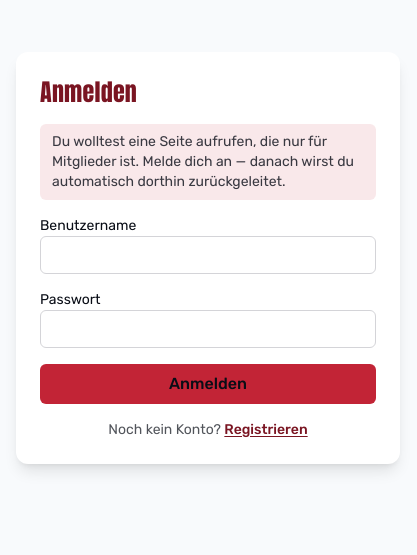
LoginForm — callbackUrl return (issue #20) › stays on the form when sign-in fails (no redirect)
The width and height of the screenshot is (417, 555).
In the field labelled "Benutzername": (208, 255) top-left (40, 236), bottom-right (376, 274), type "tester"
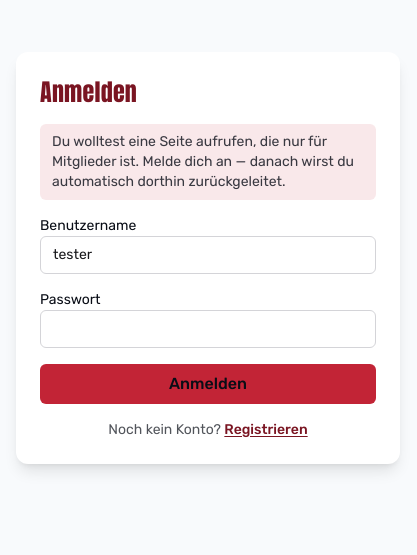
In the password field labelled "Passwort": (208, 329) top-left (40, 310), bottom-right (376, 348), type "wrong"
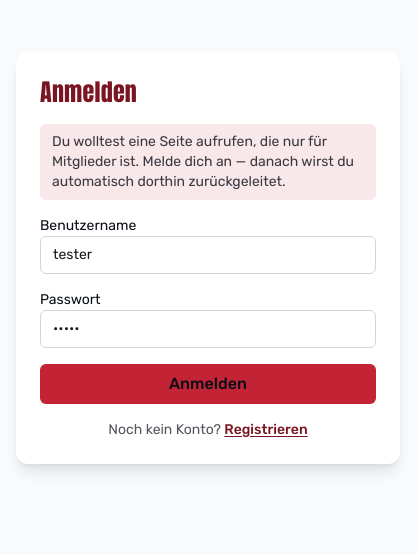
Click the button "Anmelden": (208, 384) top-left (40, 364), bottom-right (376, 404)
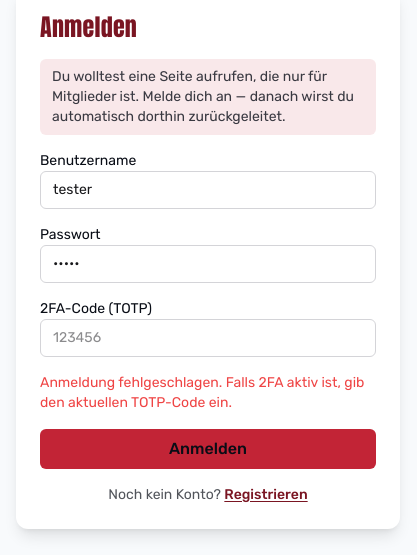
Result: the text "Anmeldung fehlgeschlagen" is shown at top-left (40, 374), bottom-right (364, 411)
